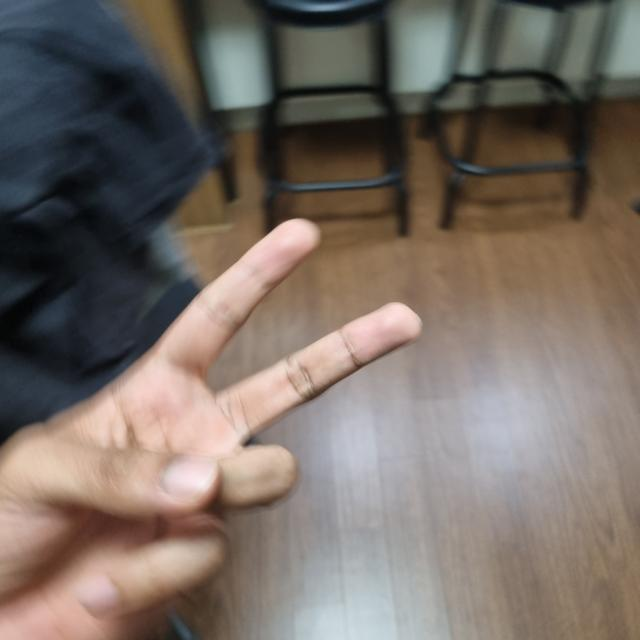Scissors: (0, 226, 409, 638)
